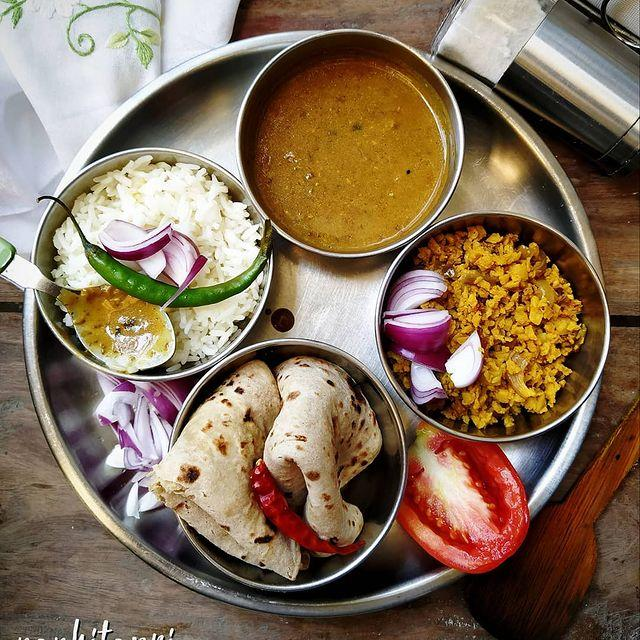Roti: (157, 334, 404, 576)
White Rice: (21, 164, 273, 384)
